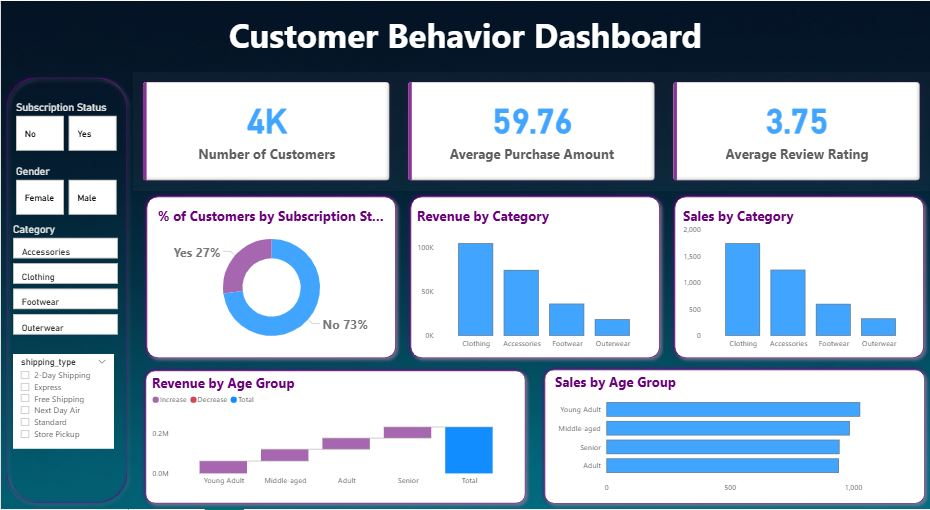

The dashboard page shown, as its layout file describes it:
{"tool":"powerbi","page":{"name":"Page 1","canvas":[1500,820],"ordinal":0},"visuals":[{"type":"cardVisual","fields":{"Data":["public customer.Number of Customers","public customer.Average Purchase Amount","public customer.Average Review Rating"]},"box":[212.9,115.3,1286.5,191.6],"z":1000},{"type":"textbox","box":[0,12.4,1499.4,102.9],"z":2000},{"type":"shape","box":[225.4,307,420.5,278.6],"z":3000},{"type":"donutChart","title":"% of Customers by Subscription Status","fields":{"Category":["public customer.subscription_status"],"Y":["CountNonNull(public customer.customer_id)"]},"box":[248.4,331.8,376.2,237.8],"z":4000},{"type":"shape","box":[1078.9,307,420.5,278.6],"z":5000},{"type":"shape","box":[652.1,307,420.5,278.6],"z":6000},{"type":"clusteredColumnChart","title":"Revenue by Category","fields":{"Y":["Sum(public customer.purchase_amount)"],"Category":["public customer.category"]},"box":[667.2,331.8,385.1,237.8],"z":7000},{"type":"clusteredColumnChart","title":"Sales by Category","fields":{"Y":["CountNonNull(public customer.customer_id)"],"Category":["public customer.category"]},"box":[1096.6,331.8,385.1,237.8],"z":8000},{"type":"shape","box":[0,115.3,212.9,704.5],"z":9000},{"type":"advancedSlicerVisual","fields":{"Values":["public customer.subscription_status"]},"box":[19.5,161.5,173.9,85.2],"z":10000},{"type":"advancedSlicerVisual","fields":{"Values":["public customer.gender"]},"box":[19.5,264.4,173.9,85.2],"z":11000},{"type":"advancedSlicerVisual","fields":{"Values":["public customer.category"]},"box":[14.2,358.4,179.2,186.3],"z":12000},{"type":"shape","box":[867.7,585.6,631.7,234.2],"z":13000},{"type":"clusteredBarChart","title":"Sales by Age Group","fields":{"Y":["CountNonNull(public customer.customer_id)"],"Category":["public customer.age_group"]},"box":[889.4,600.5,585.9,203.4],"z":14000},{"type":"shape","box":[224.4,587.6,631.1,232.4],"z":15000},{"type":"slicer","fields":{"Values":["public customer.shipping_type"]},"box":[19.4,569.8,163,153.3],"z":16000},{"type":"waterfallChart","title":"Revenue by Age Group","fields":{"Category":["public customer.age_group"],"Y":["Sum(public customer.purchase_amount)"]},"box":[239.1,601.5,602.1,190.5],"z":16000,"group":"g1"},{"type":"group","id":"g1","title":"Group 1","box":[239.1,601.5,602.1,190.5],"z":16500}]}

Visuals, with their boxes in screenshot pixels (x1, y1, x2, y2), scaled from the page's 1500x820 canvas onto the 930x510 screenshot:
cardVisual - public customer.Number of Customers x public customer.Average Purchase Amount: <box>132,72,929,191</box>
textbox: <box>0,8,929,72</box>
shape: <box>140,191,400,364</box>
"% of Customers by Subscription Status" donutChart: <box>154,206,387,354</box>
shape: <box>669,191,929,364</box>
shape: <box>404,191,665,364</box>
"Revenue by Category" clusteredColumnChart: <box>414,206,652,354</box>
"Sales by Category" clusteredColumnChart: <box>680,206,919,354</box>
shape: <box>0,72,132,509</box>
advancedSlicerVisual - public customer.subscription_status: <box>12,100,120,153</box>
advancedSlicerVisual - public customer.gender: <box>12,164,120,217</box>
advancedSlicerVisual - public customer.category: <box>9,223,120,339</box>
shape: <box>538,364,929,509</box>
"Sales by Age Group" clusteredBarChart: <box>551,373,915,500</box>
shape: <box>139,365,530,509</box>
slicer - public customer.shipping_type: <box>12,354,113,450</box>
"Revenue by Age Group" waterfallChart: <box>148,374,522,493</box>
"Group 1" group: <box>148,374,522,493</box>
